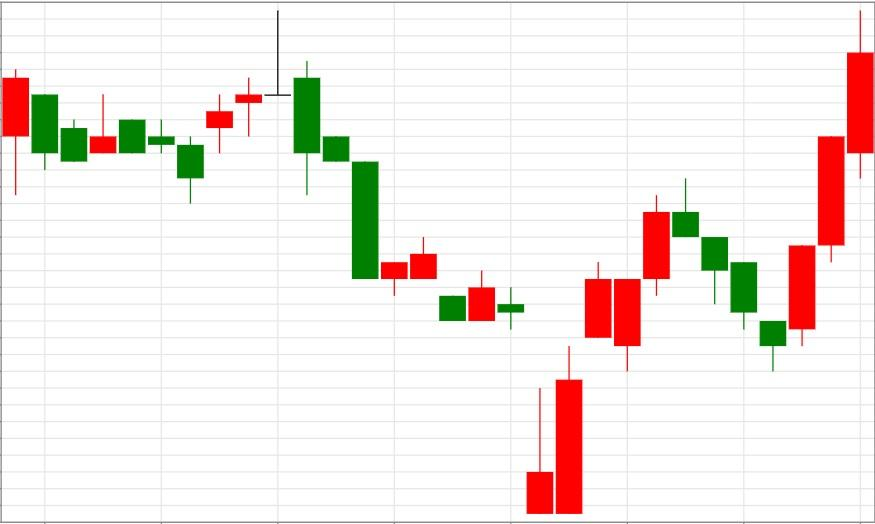three_black_crows_fall: (525, 177, 758, 515)
